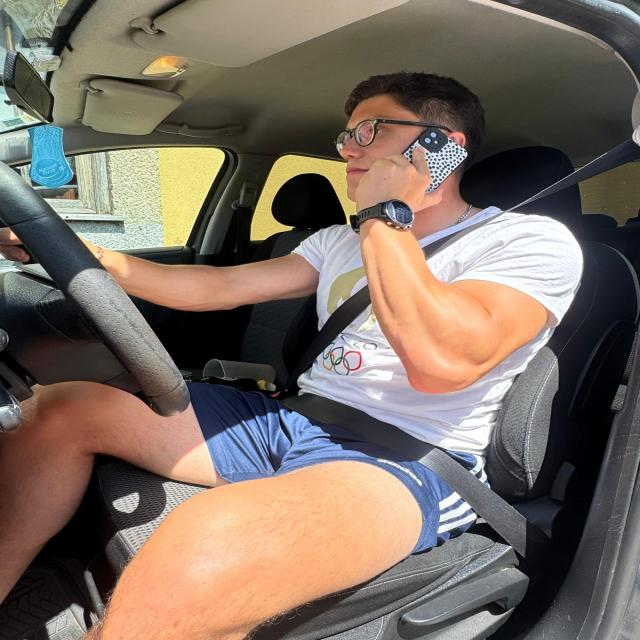Phone: (362, 111, 487, 223)
Seatbelt: (200, 96, 640, 613)
